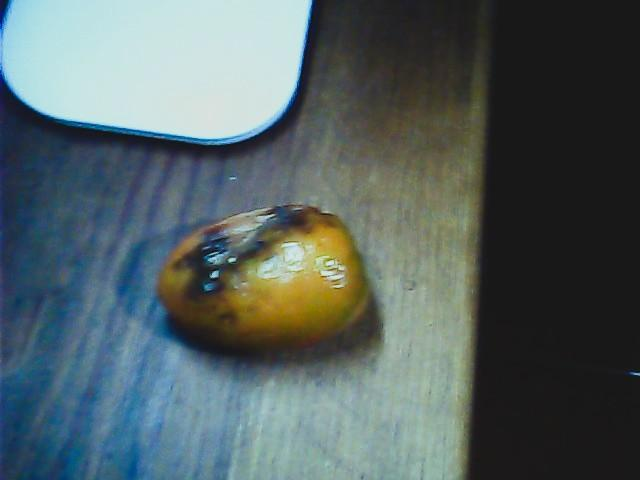defectuoso: (157, 203, 364, 355)
